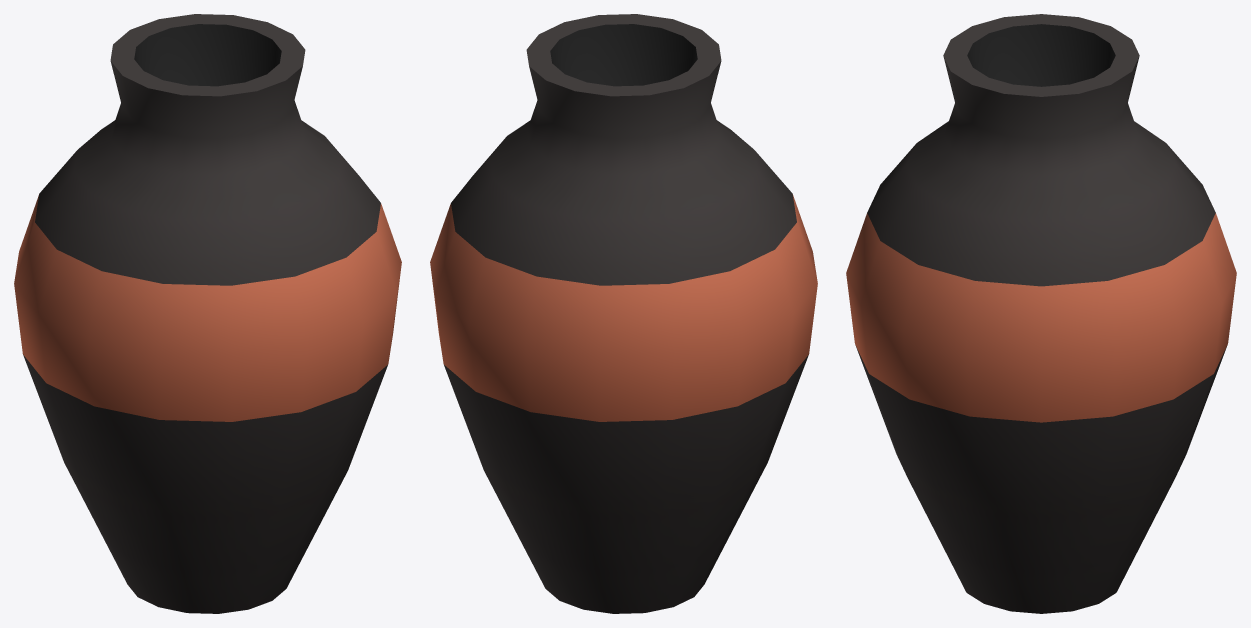
The model's file is vase_002.glb.
3 views of the same model, side by side, from view 1: azimuth 30°, elevation 25°; view 2: azimuth 150°, elevation 25°; view 3: azimuth 270°, elevation 25° (orthographic).
Visible parts, largest first — view 1: vase_002; view 2: vase_002; view 3: vase_002.
Boxes of the visible parts, left/top/right/bottom form: vase_002: left=14, top=14, right=401, bottom=613; vase_002: left=430, top=14, right=817, bottom=613; vase_002: left=846, top=14, right=1236, bottom=613.
Bounding box in the file's own units: 0.9019 × 1.33 × 0.9019.
1 material, 1 textured.
